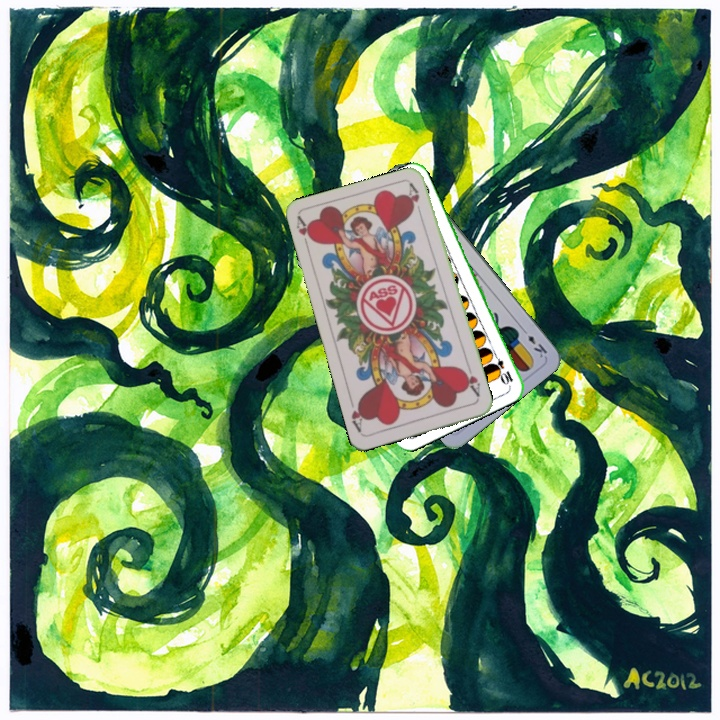E10: (488, 348, 516, 387)
EK: (518, 324, 550, 360)
HA: (458, 361, 483, 401), (292, 214, 317, 254)
